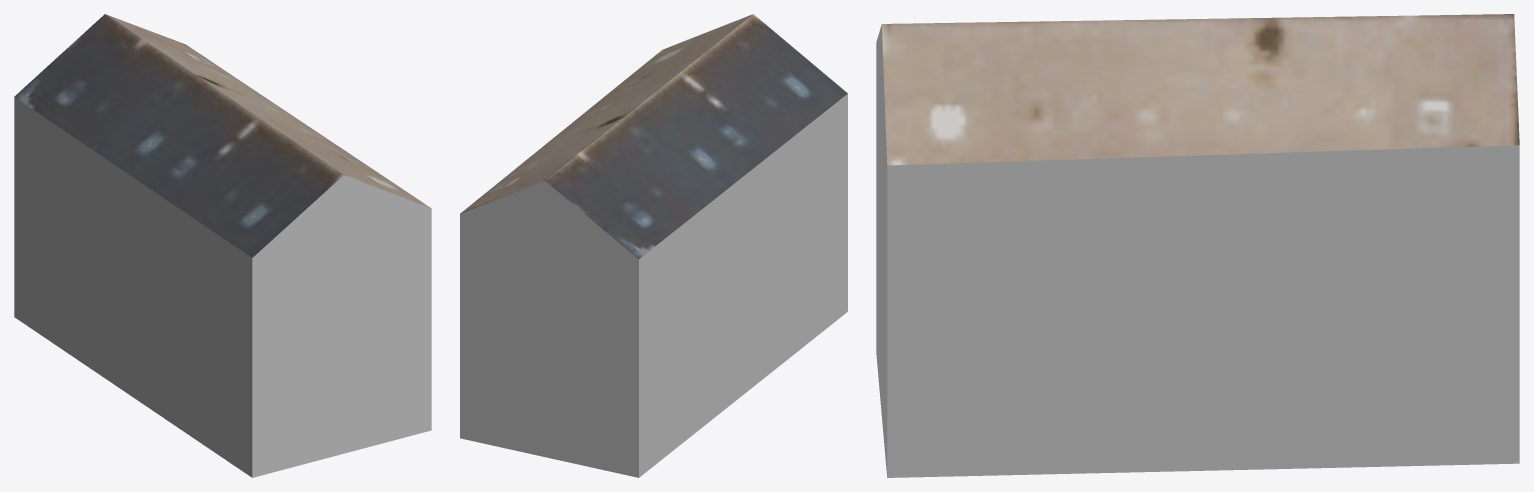
The model's file is DEBW_0010007Txik.gltf.
3 renders of one model, left to right at view 1: azimuth 30°, elevation 25°; view 2: azimuth 150°, elevation 25°; view 3: azimuth 270°, elevation 25°, orthographic. The views are drawn at different scales.
Parts seen in each view (by area): view 1: Z_UP; view 2: Z_UP; view 3: Z_UP.
Part boxes in pixels (bbox=[...]): Z_UP: bbox=[14, 14, 431, 477]; Z_UP: bbox=[460, 14, 847, 477]; Z_UP: bbox=[876, 14, 1519, 477].
Bounding box in the file's own units: 13.15 × 17.78 × 26.42.
Materials: 2 (1 with a texture image).
